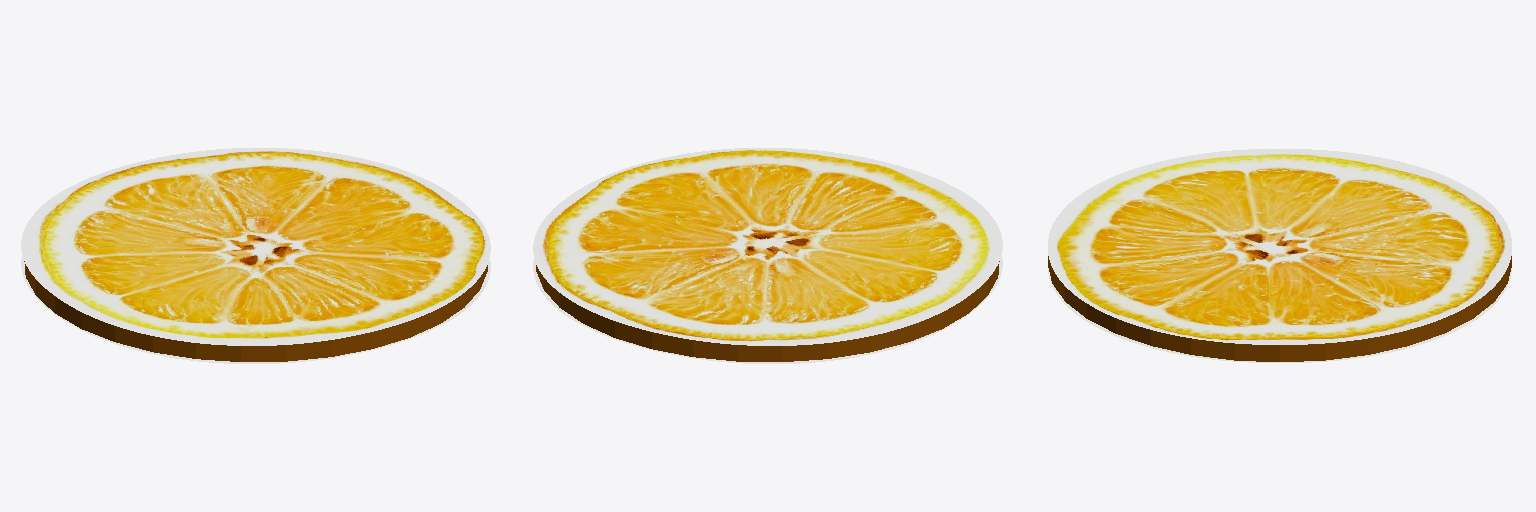
3 views of the same model, side by side, from view 1: azimuth 30°, elevation 25°; view 2: azimuth 150°, elevation 25°; view 3: azimuth 270°, elevation 25° (orthographic).
Parts seen in each view (by area): view 1: Cylinder_Cylinder.001; view 2: Cylinder_Cylinder.001; view 3: Cylinder_Cylinder.001.
Boxes of the visible parts, x1=… form: Cylinder_Cylinder.001: x1=21, y1=148, x2=490, y2=363; Cylinder_Cylinder.001: x1=533, y1=148, x2=1002, y2=363; Cylinder_Cylinder.001: x1=1048, y1=149, x2=1511, y2=362.
Size of the model in its own units: 2 by 0.0865 by 2.
Materials: 2 (1 with a texture image).